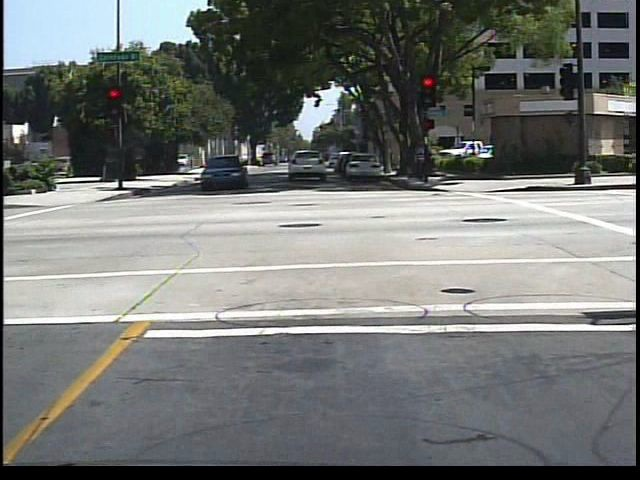person: (415, 137, 434, 185)
